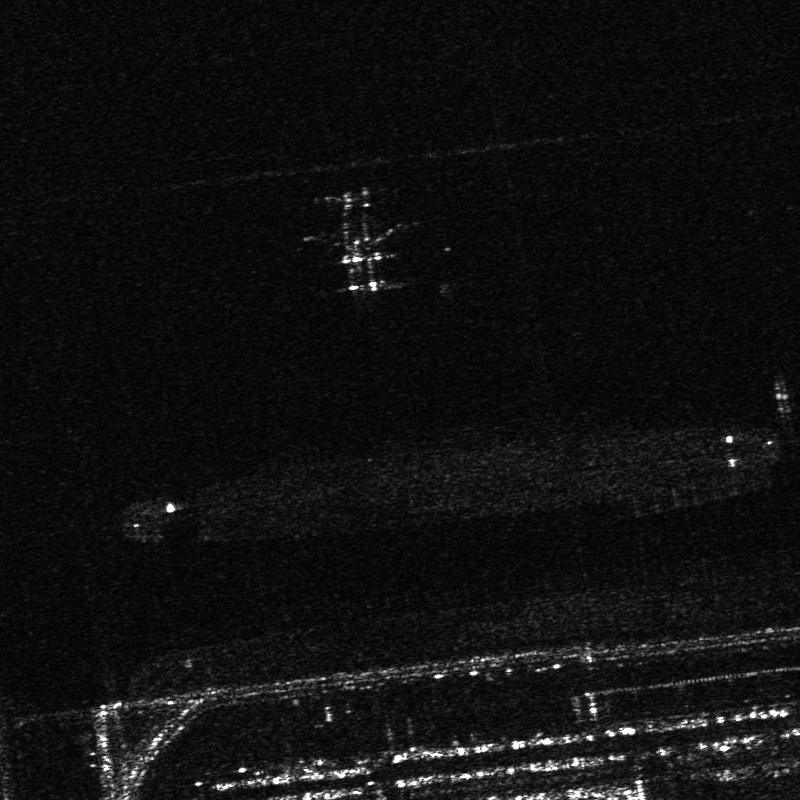A330: (305, 183, 406, 269)
